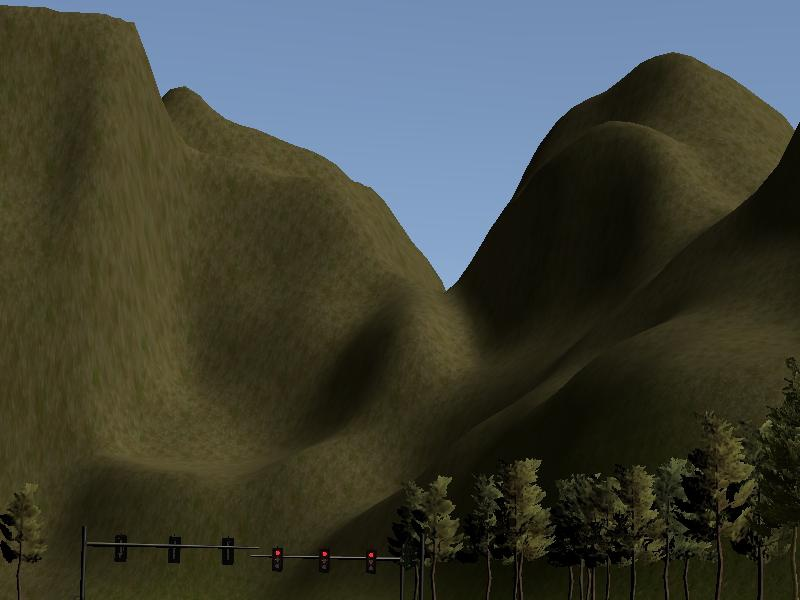red_light: (365, 549, 377, 573), (273, 548, 285, 570), (320, 548, 330, 570)
